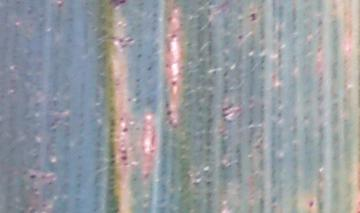tarspot: (107, 1, 129, 10), (220, 102, 235, 113), (28, 172, 38, 182), (221, 112, 234, 119), (121, 125, 130, 135), (307, 198, 315, 209), (205, 179, 213, 190), (164, 109, 173, 117), (145, 63, 153, 72), (236, 33, 245, 41), (120, 154, 129, 162), (249, 12, 256, 22), (168, 32, 178, 39), (121, 160, 132, 166), (165, 14, 173, 22), (170, 78, 177, 87), (57, 1, 64, 9), (136, 51, 143, 58), (120, 148, 128, 154)
